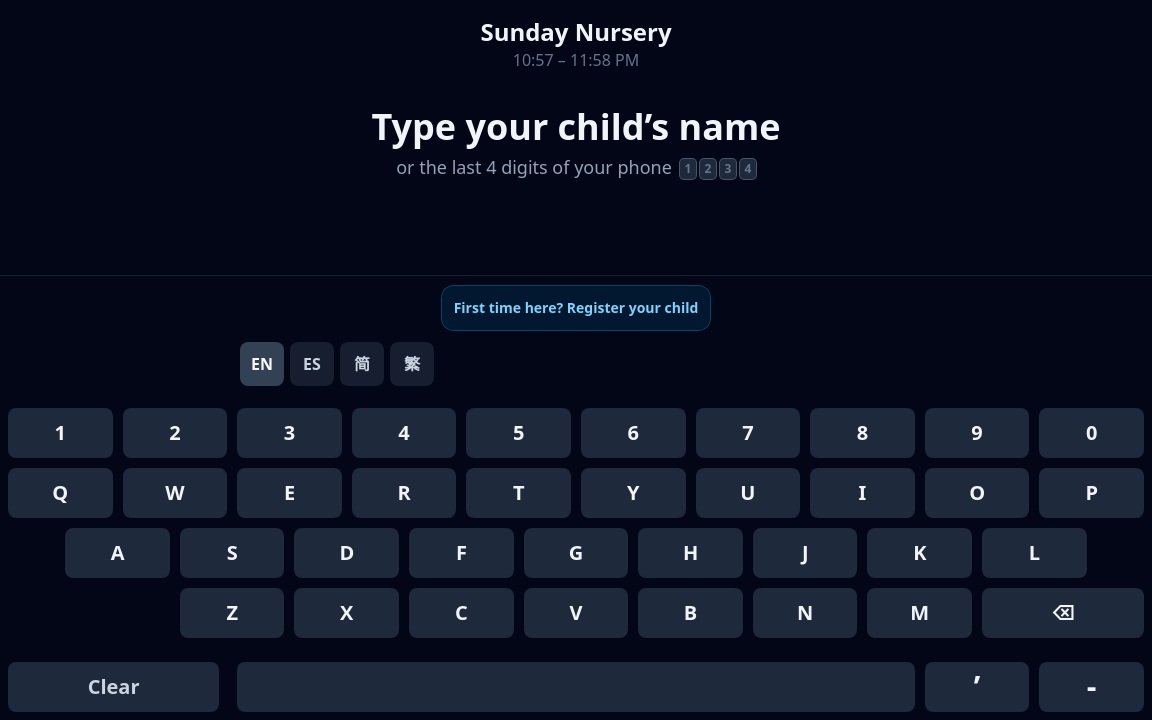
Test: the staff gate › still just clears the buffer on a tap
Press the mouse on the button "A" at {"x": 118, "y": 553}, box [65,528,170,578]
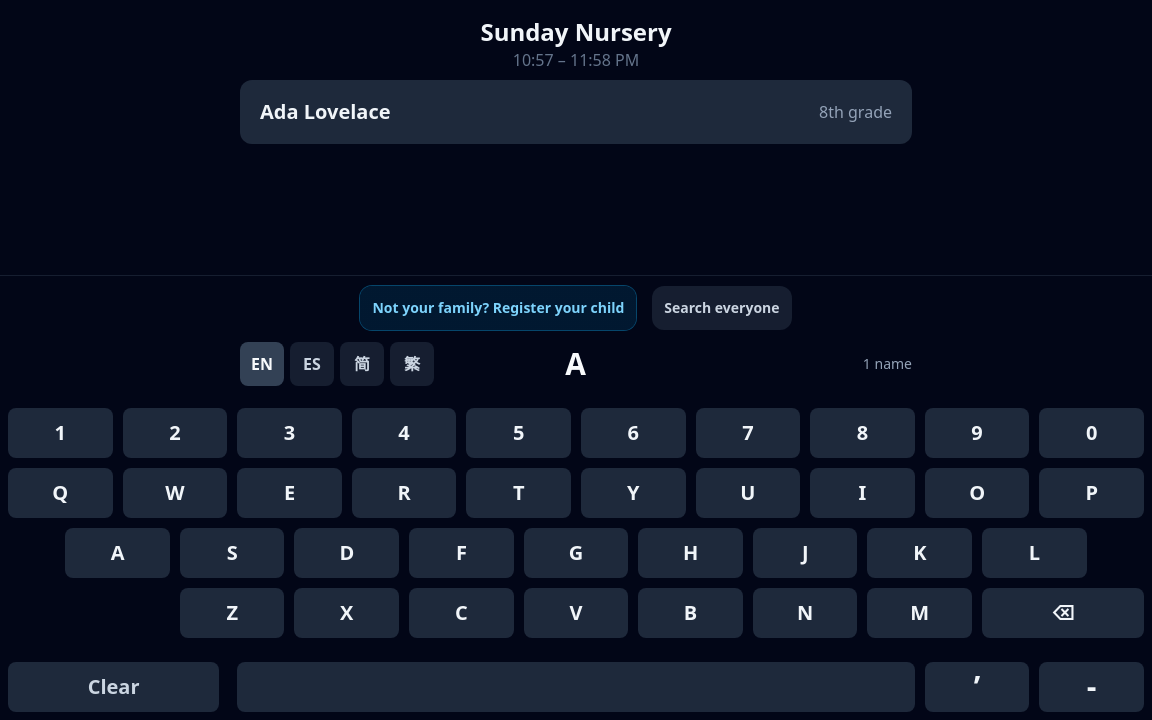
Press the mouse on the button "D" at {"x": 347, "y": 553}, box [294,528,399,578]
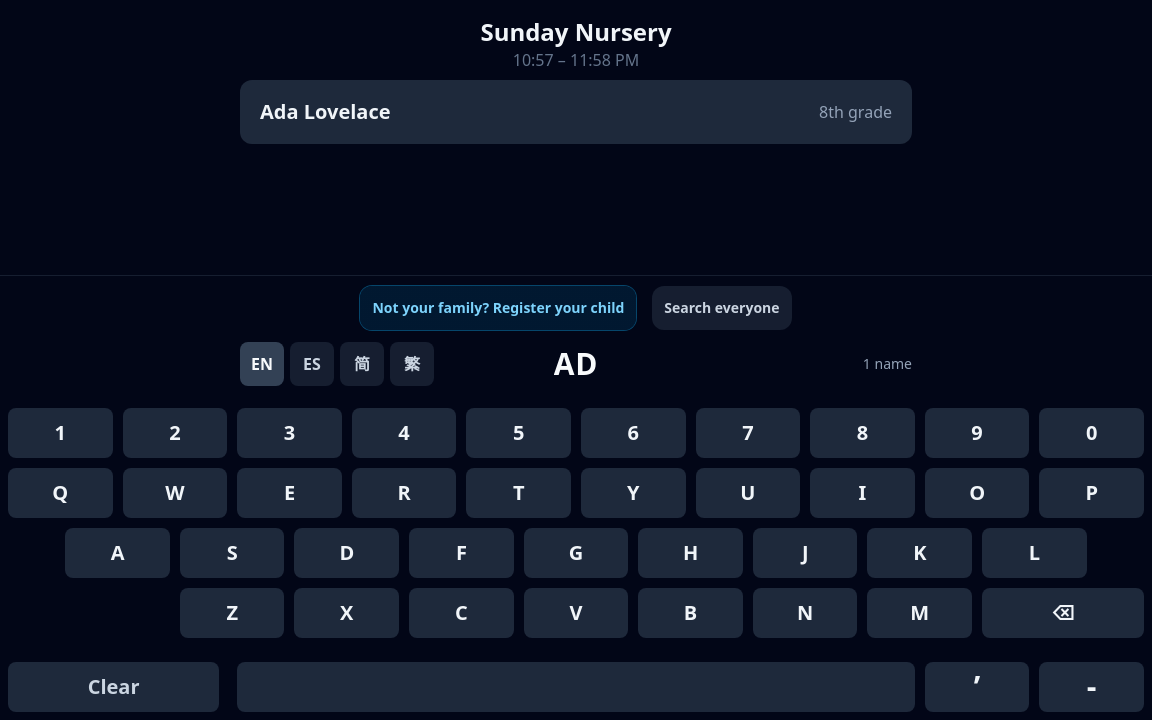
Press the mouse on the button "A" at {"x": 118, "y": 553}, box [65,528,170,578]
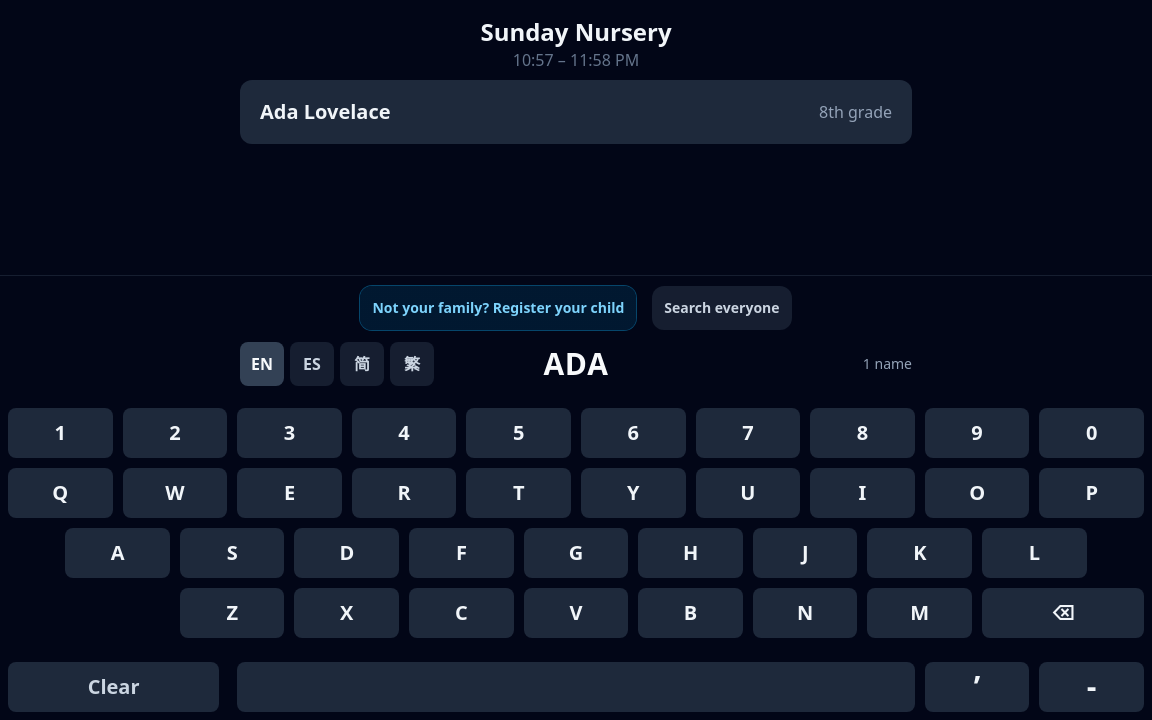
Check: the text "ADA" is shown, box [543,346,609,382]
Press the mouse on the button "Clear" at {"x": 114, "y": 687}, box [8,662,219,712]
Wait 200 ms
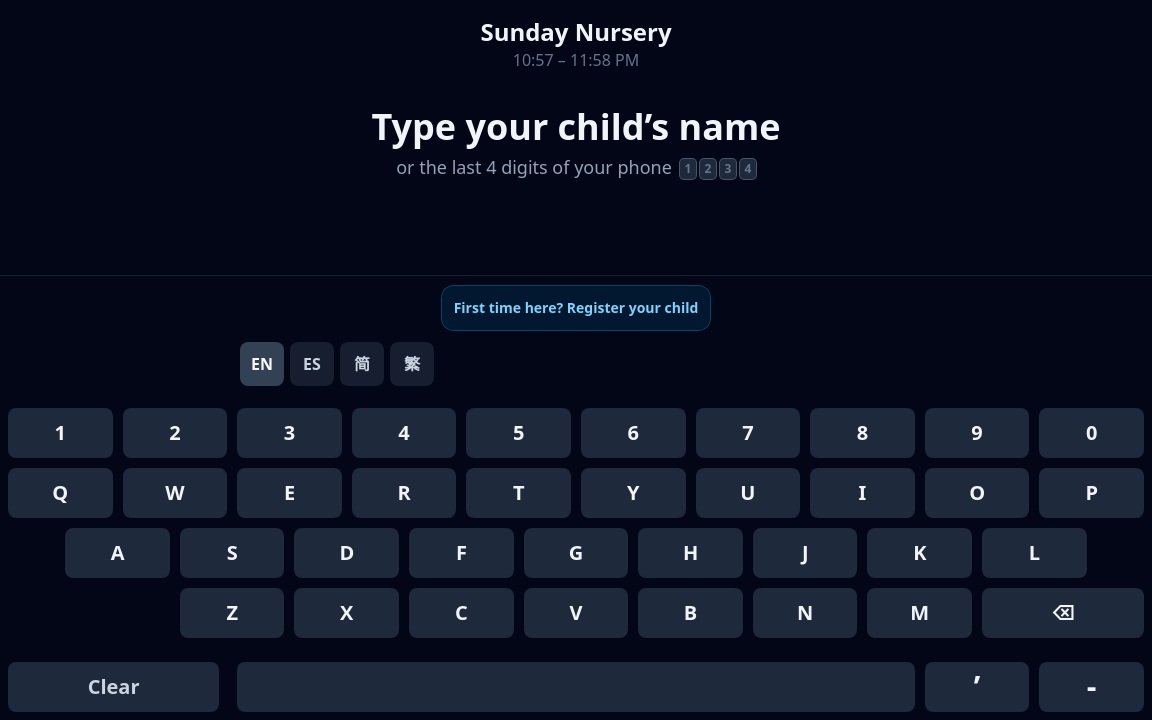
Check: the text "Type your child’s name" is shown, box [372,104,781,149]
